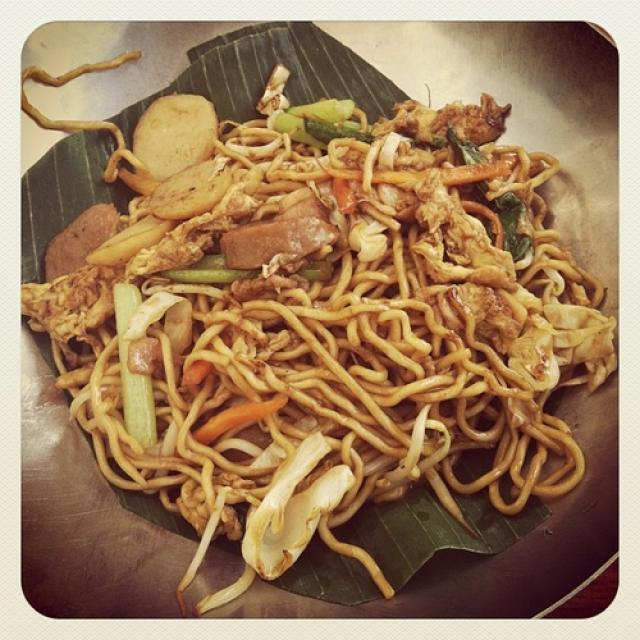面条主食: (37, 74, 577, 599)
